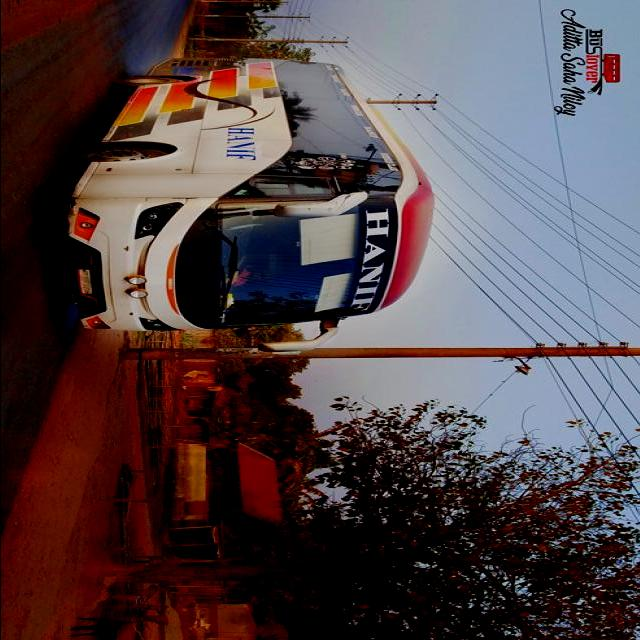bus: (64, 55, 439, 353)
